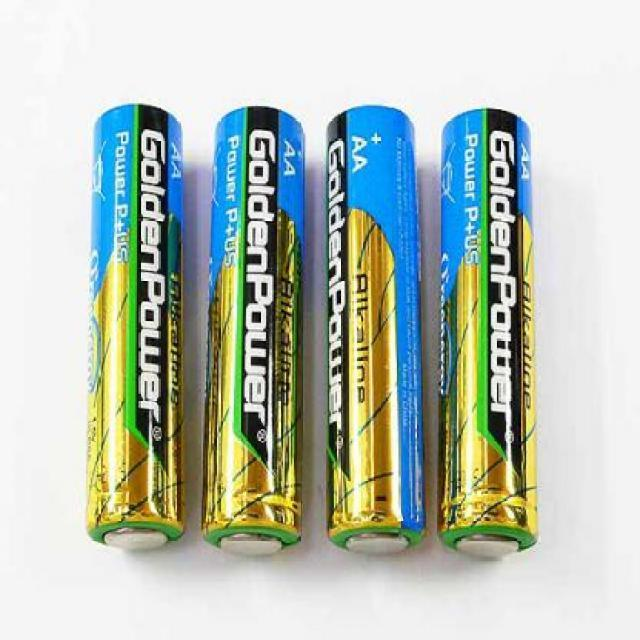AA: (192, 106, 311, 563), (436, 105, 544, 570), (323, 103, 428, 568), (86, 96, 188, 566)
